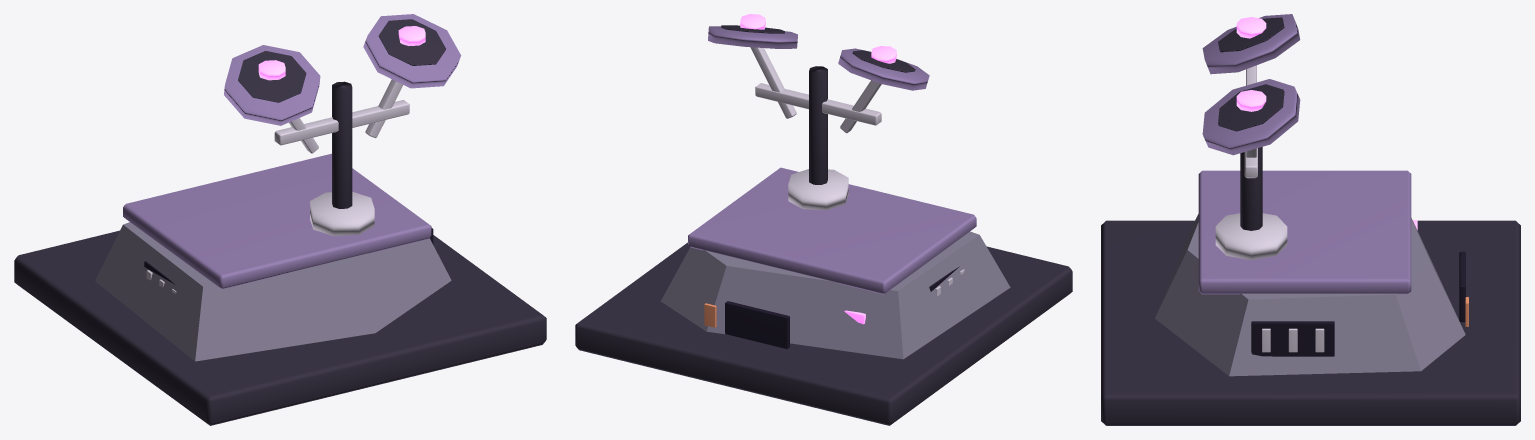
Rendered from vesper-radar-array.glb.
3 views of the same model, side by side, from view 1: azimuth 30°, elevation 25°; view 2: azimuth 150°, elevation 25°; view 3: azimuth 270°, elevation 25° (orthographic). The views are drawn at different scales.
Parts seen in each view (by area): view 1: Vesper radar skid, Bunker roof salvage plate, Asymmetric radar bunker, Signal mast socket, Violet receiver core; view 2: Vesper radar skid, Bunker roof salvage plate, Asymmetric radar bunker, Signal mast socket, Side heat recess, Violet receiver core; view 3: Vesper radar skid, Bunker roof salvage plate, Asymmetric radar bunker, Signal mast socket, Side heat recess, Violet receiver core.
Part boxes in pixels (x1,y1,x2,y2): Vesper radar skid: [14, 19, 546, 425]; Bunker roof salvage plate: [123, 14, 461, 289]; Asymmetric radar bunker: [95, 222, 451, 361]; Signal mast socket: [146, 79, 409, 293]; Violet receiver core: [258, 26, 425, 80]; Vesper radar skid: [575, 25, 1072, 425]; Bunker roof salvage plate: [688, 26, 976, 294]; Asymmetric radar bunker: [660, 231, 1010, 359]; Signal mast socket: [750, 47, 964, 296]; Side heat recess: [725, 266, 959, 348]; Violet receiver core: [740, 14, 896, 324]; Vesper radar skid: [1101, 17, 1520, 425]; Bunker roof salvage plate: [1198, 14, 1411, 294]; Asymmetric radar bunker: [1155, 214, 1465, 376]; Signal mast socket: [1215, 65, 1324, 352]; Side heat recess: [1251, 251, 1465, 356]; Violet receiver core: [1236, 17, 1417, 230].
Size of the model in its own units: 2.82 by 2.23 by 2.82.
